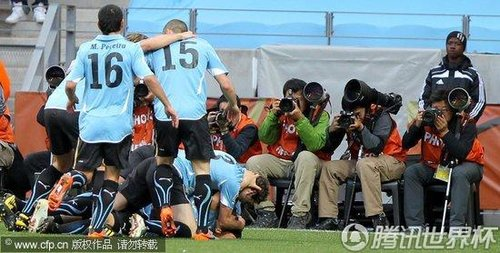10+: (1, 1, 494, 238)
down: (93, 147, 279, 215), (60, 192, 251, 237)
